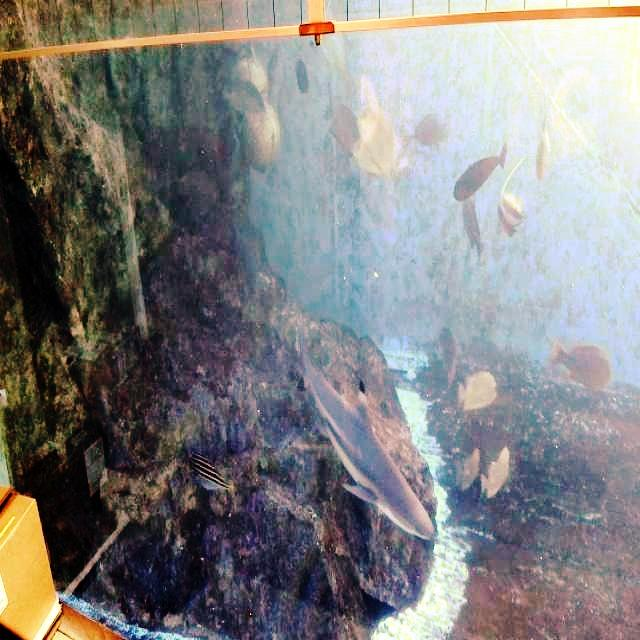Plectorhinchus lessonii: (177, 434, 245, 509)
angelfish: (493, 147, 533, 249)
gold snapper: (452, 358, 503, 427), (479, 436, 520, 514), (452, 438, 484, 498)
shark: (286, 308, 444, 562)
